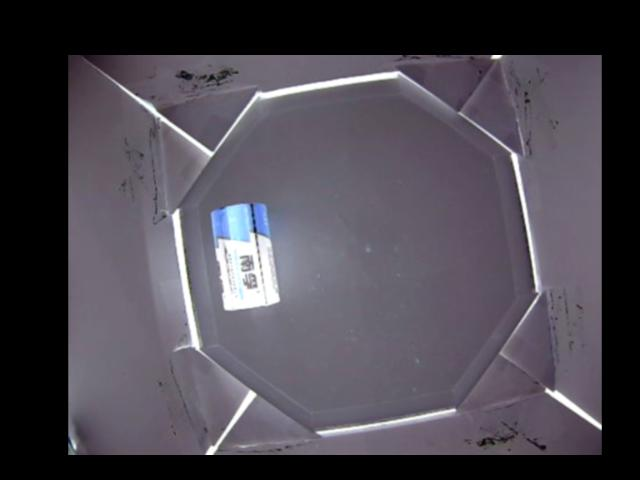Battery: (209, 201, 279, 310)
